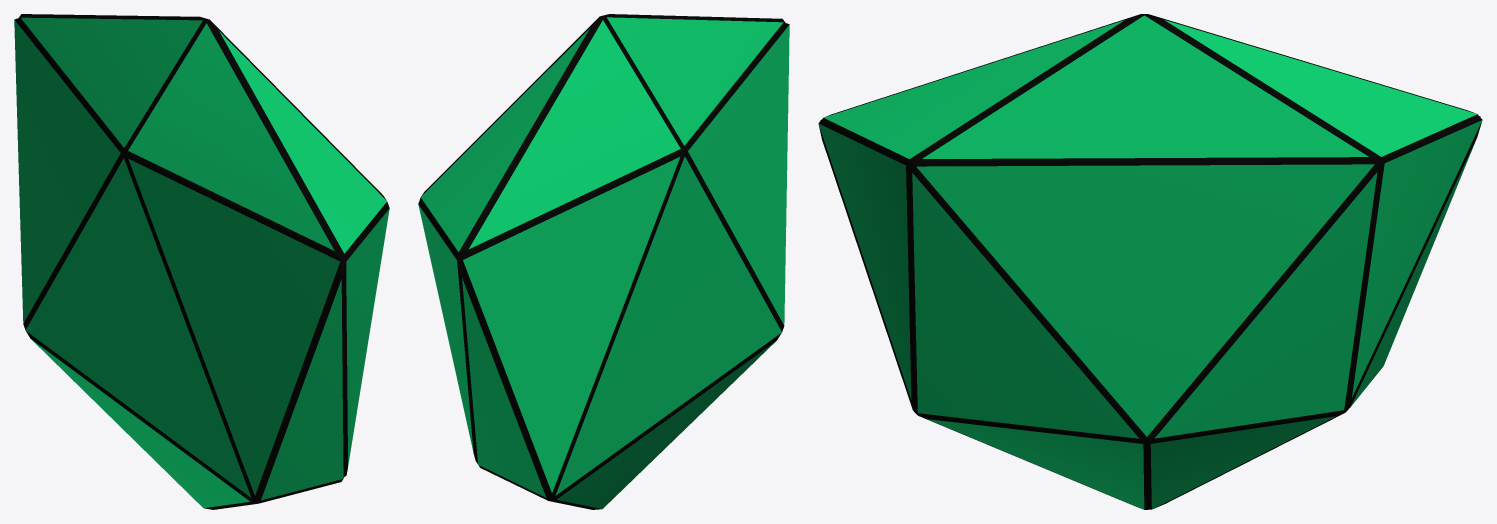
Rendered from EmeraldWO.fbx.
The picture shows the model from 3 angles, left to right: view 1: azimuth 30°, elevation 25°; view 2: azimuth 150°, elevation 25°; view 3: azimuth 270°, elevation 25°; orthographic projection.
Visible parts, largest first — view 1: pPlatonic2; view 2: pPlatonic2; view 3: pPlatonic2.
Part boxes in pixels (bbox=[...]): pPlatonic2: bbox=[14, 14, 389, 509]; pPlatonic2: bbox=[418, 14, 789, 509]; pPlatonic2: bbox=[818, 14, 1482, 509].
Bounding box in the file's own units: 0.5721 × 1.61 × 1.95.
